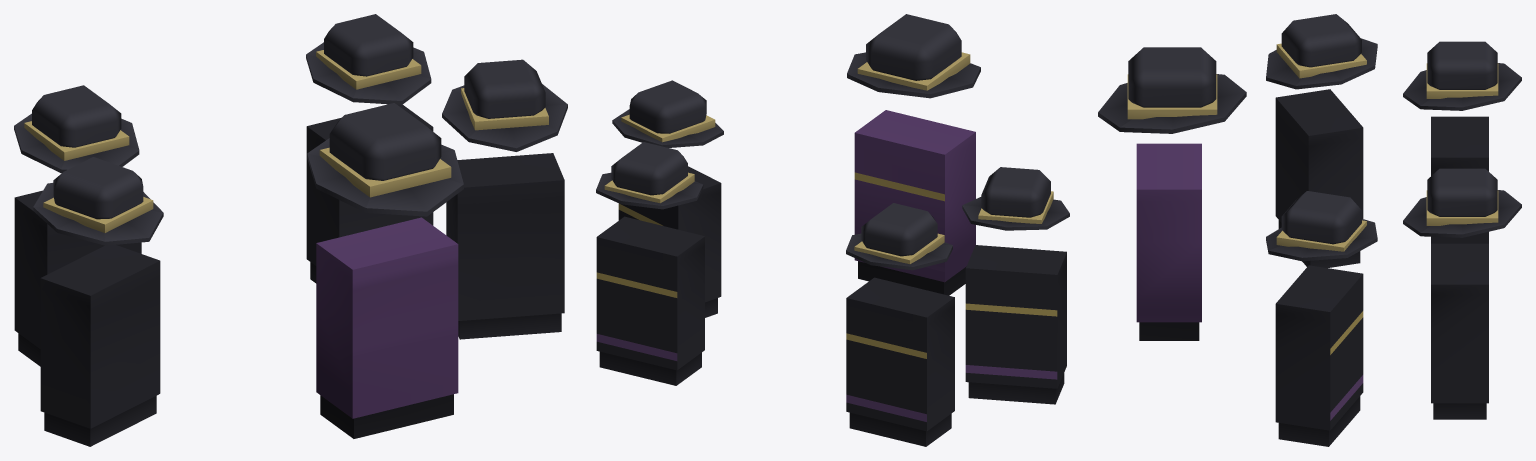
Rendered from velvet-mob-lod2.glb.
The picture shows the model from 3 angles, left to right: view 1: azimuth 30°, elevation 25°; view 2: azimuth 150°, elevation 25°; view 3: azimuth 270°, elevation 25°; orthographic projection. The views are drawn at different scales.
Parts seen in each view (by area): view 1: cap_torso, att3_torso, att2_torso, cap_hat, att2_hat, att0_hat, att3_hat, att1_hat, att1_torso, att0_torso; view 2: att0_torso, att1_torso, att3_torso, cap_torso, cap_hat, att2_hat, att0_hat, att1_hat, att3_hat, att2_torso; view 3: att2_torso, cap_torso, att0_torso, att3_torso, cap_hat, att3_hat, att1_hat, att0_hat, att2_hat, att1_torso.
Part boxes in pixels (left/top/right/bottom): cap_torso: left=316, top=217, right=458, bottom=438; att3_torso: left=40, top=245, right=160, bottom=446; att2_torso: left=446, top=153, right=564, bottom=339; cap_hat: left=307, top=103, right=463, bottom=216; att2_hat: left=442, top=59, right=567, bottom=151; att0_hat: left=306, top=14, right=431, bottom=104; att3_hat: left=33, top=157, right=163, bottom=245; att1_hat: left=14, top=85, right=139, bottom=173; att1_torso: left=14, top=190, right=141, bottom=366; att0_torso: left=306, top=104, right=433, bottom=283; att0_torso: left=596, top=216, right=704, bottom=385; att1_torso: left=846, top=277, right=954, bottom=446; att3_torso: left=965, top=245, right=1066, bottom=404; cap_torso: left=854, top=110, right=975, bottom=295; cap_hat: left=847, top=14, right=980, bottom=98; att2_hat: left=612, top=80, right=723, bottom=147; att0_hat: left=596, top=142, right=703, bottom=209; att1_hat: left=846, top=203, right=952, bottom=270; att3_hat: left=962, top=167, right=1069, bottom=230; att2_torso: left=618, top=166, right=721, bottom=317; att2_torso: left=1275, top=265, right=1363, bottom=446; cap_torso: left=1136, top=143, right=1201, bottom=340; att0_torso: left=1431, top=243, right=1488, bottom=419; att3_torso: left=1275, top=89, right=1363, bottom=267; cap_hat: left=1098, top=47, right=1246, bottom=133; att3_hat: left=1266, top=14, right=1377, bottom=89; att1_hat: left=1403, top=41, right=1521, bottom=110; att0_hat: left=1403, top=168, right=1521, bottom=237; att2_hat: left=1266, top=191, right=1377, bottom=261; att1_torso: left=1431, top=116, right=1488, bottom=243.
Size of the model in its own units: 2.18 by 1.27 by 1.75.
